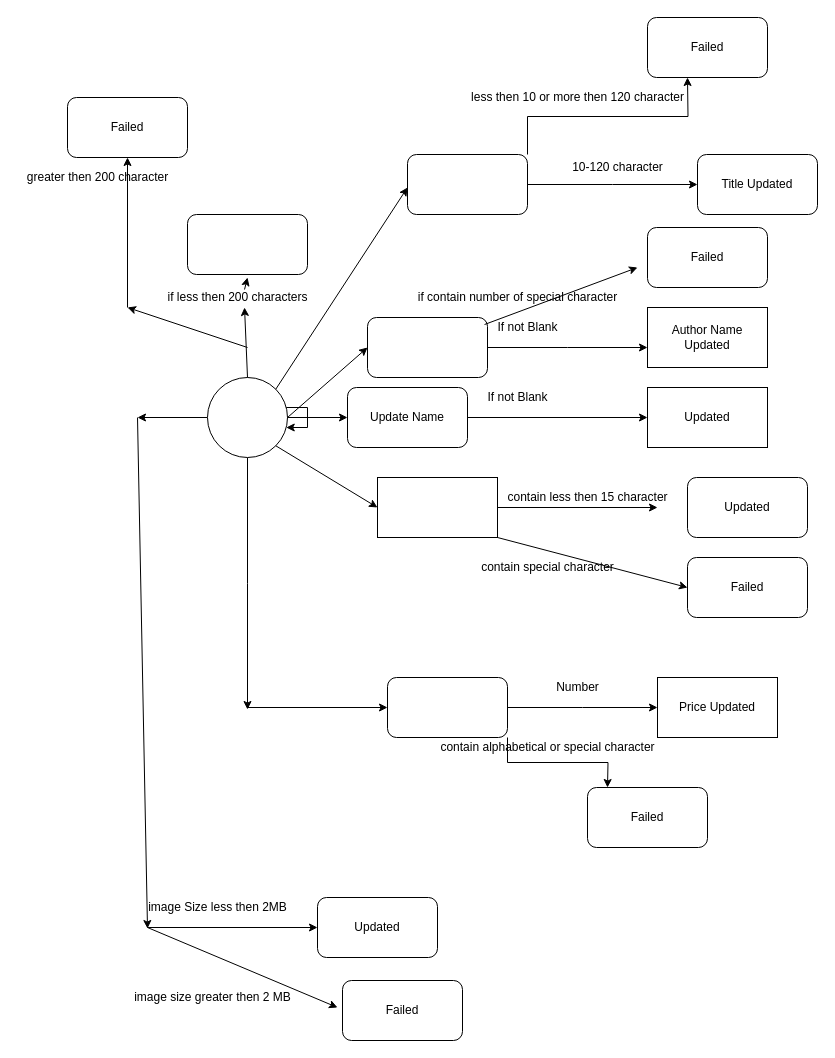
The diagram is 835 pixels wide and 1058 high, and some of its shapes have lost their labels. The shapes that lost their labels are listed below. From the top down, each one's box as (x1, y1, x2, y2) in pixels, then its label:
(406, 154, 528, 214): Update Title
(186, 214, 308, 274): Description Updated
(366, 316, 488, 378): Update Author Name
(206, 376, 288, 458): Update BOOK Details
(376, 476, 498, 538): ISBN number
(386, 676, 508, 738): Update Price
